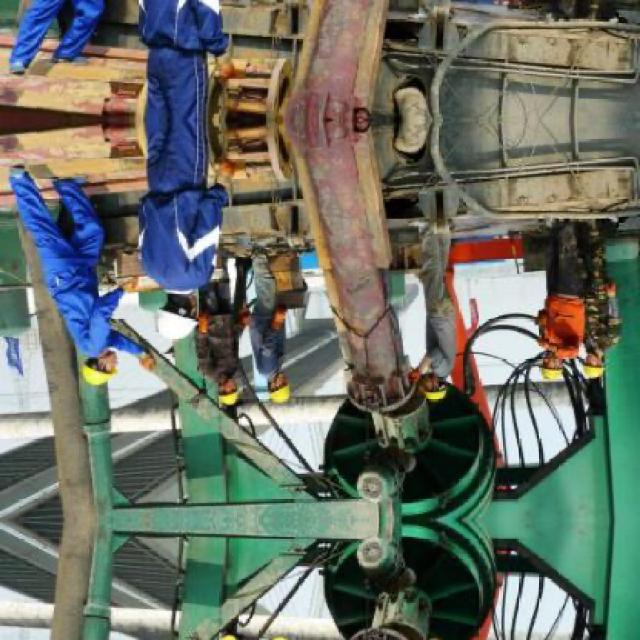con casco: (355, 334, 493, 424), (141, 250, 251, 362), (47, 299, 149, 403), (488, 312, 584, 382), (223, 347, 311, 416), (535, 321, 620, 388), (185, 335, 245, 409)
